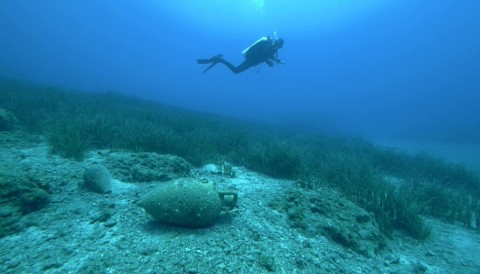amphora: (136, 175, 239, 232), (82, 161, 119, 198)
